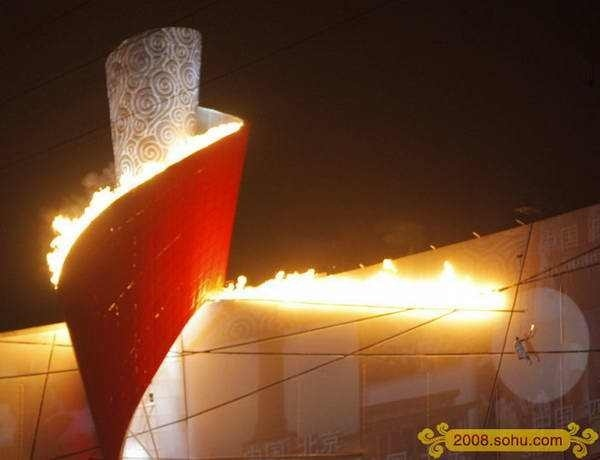fire: (198, 256, 501, 309), (88, 114, 247, 196), (45, 177, 119, 291)
